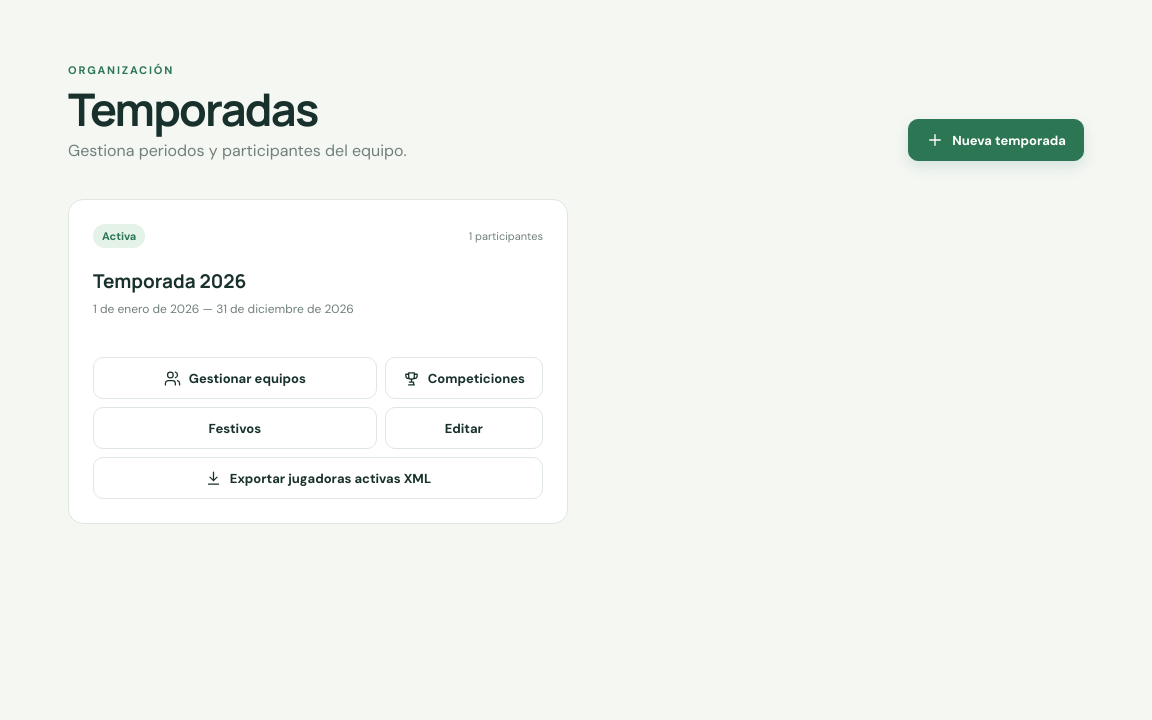
it: SeasonsView › only offers team assignment to players linked to the selected season
Step 1. Click the button "Gestionar equipos" → point(235, 378), box [93,357,377,399]
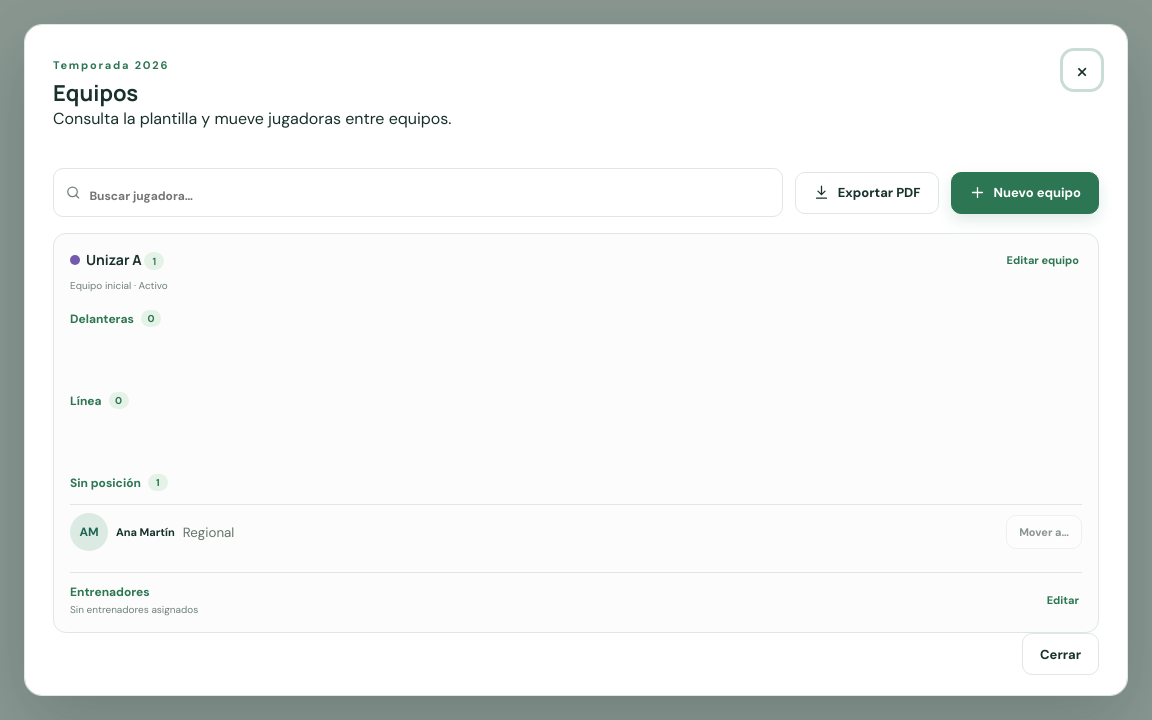
Now the text "Ana Martín" is shown, box [116,525,175,539]
Now the button with aria-label "Mover a Ana Martín a otro equipo" is disabled, box [1006,515,1082,549]
